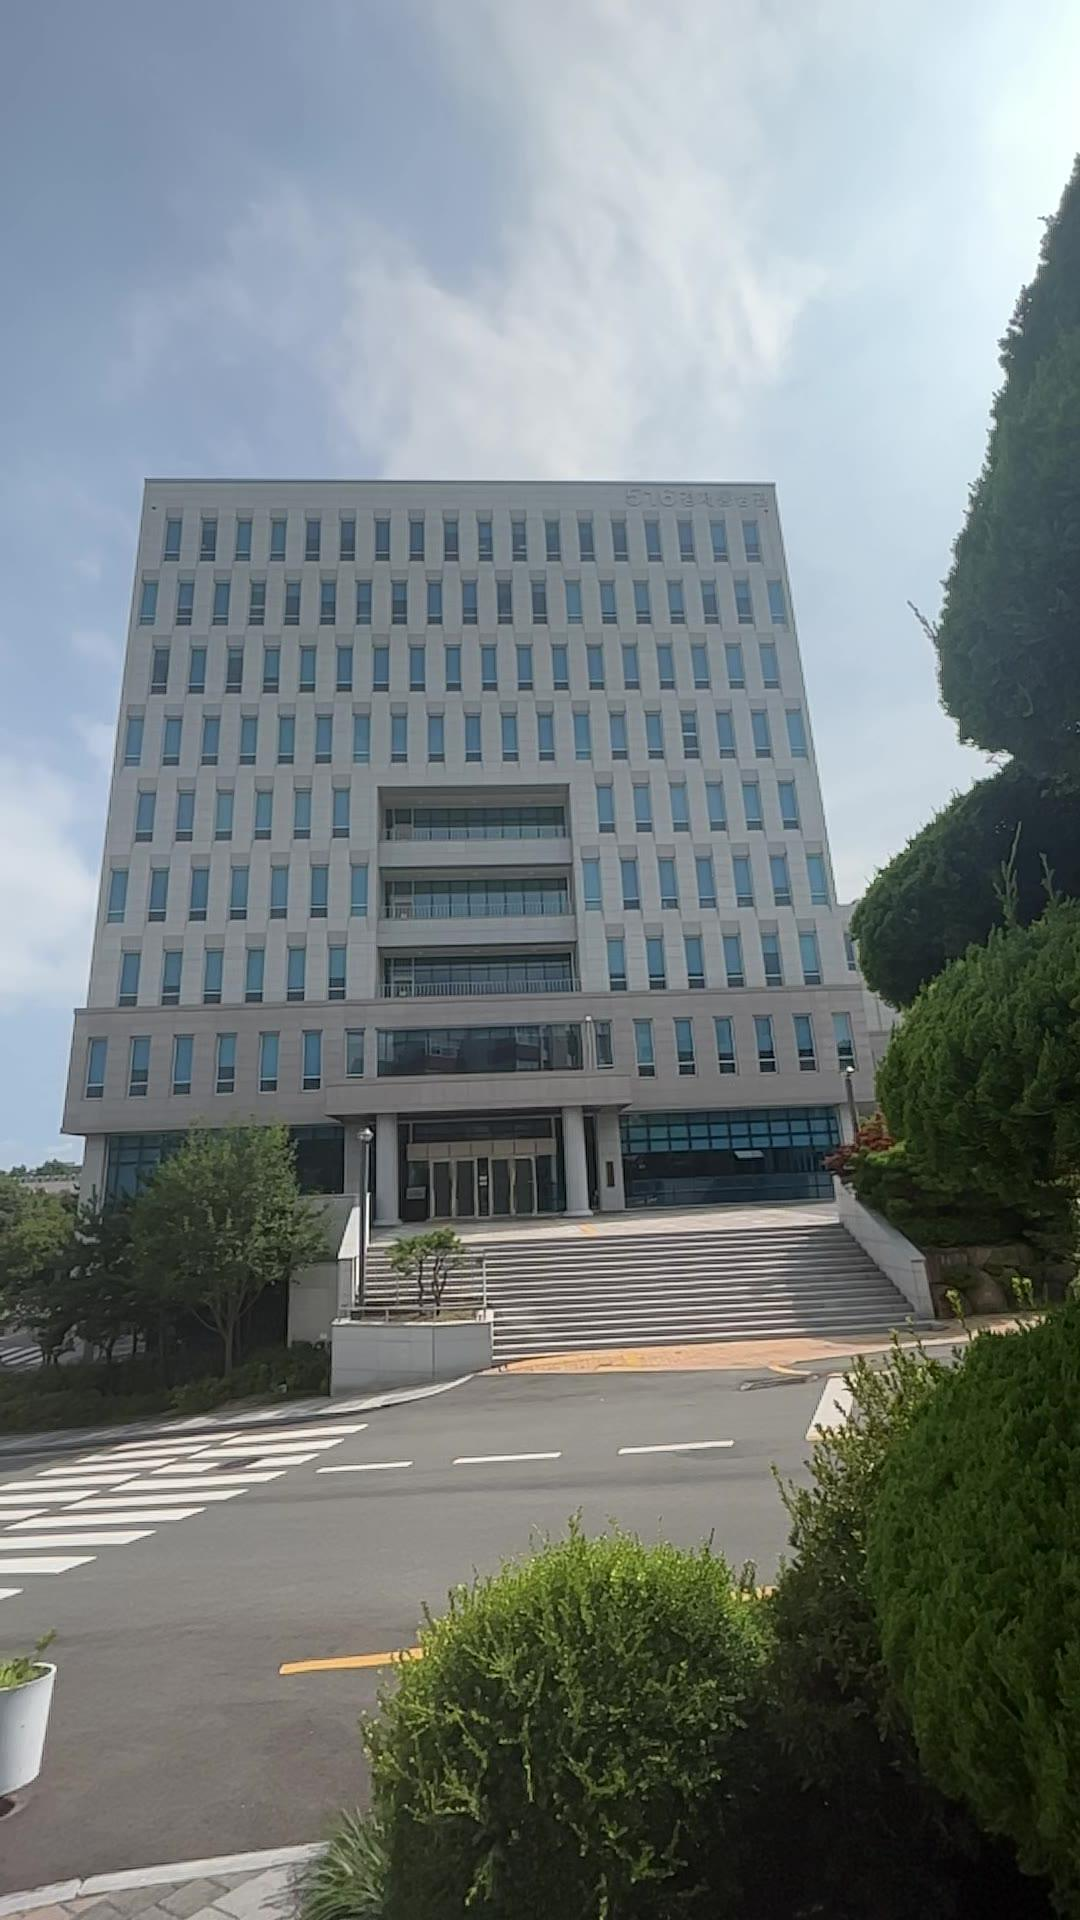building: (61, 421, 865, 1180)
